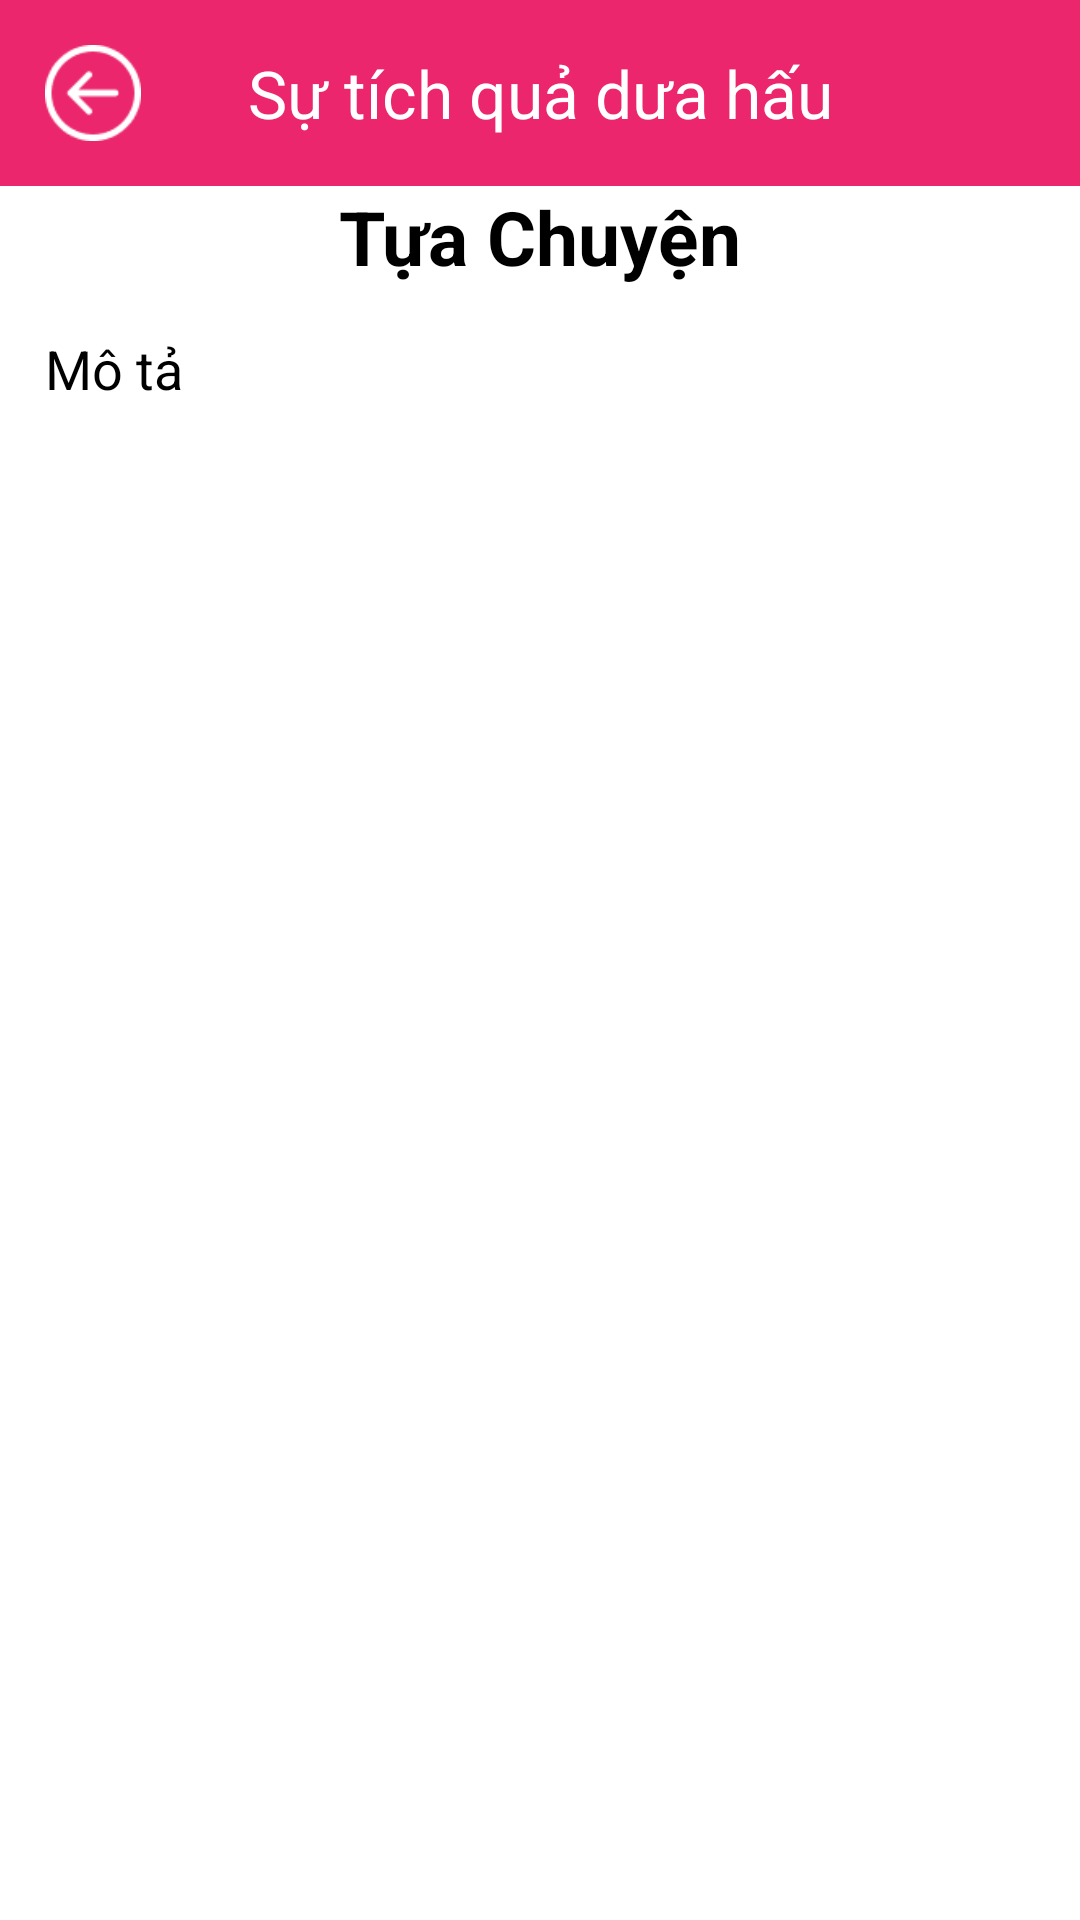

Icon bounding boxes for this 1080×1920 phone screenshot, format (x1=x1, y1=y1, x2=x2, y2=y2):
back: (x1=45, y1=45, x2=141, y2=141)
